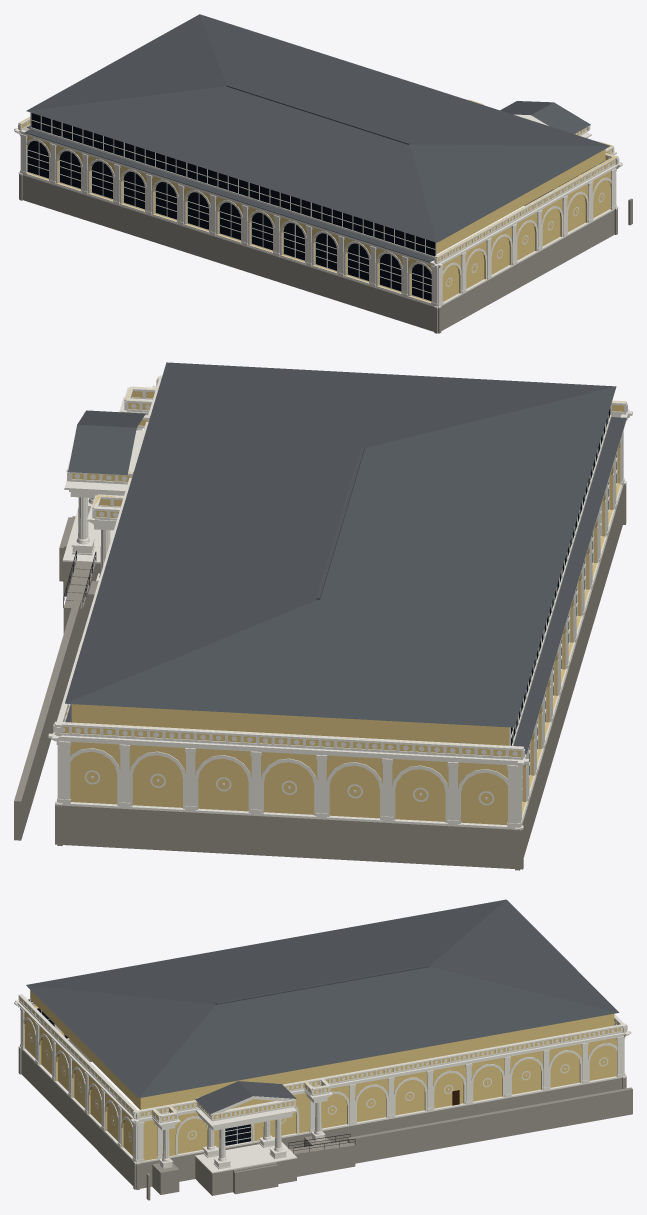
File: termy_nautiko.glb
The picture shows the model from 3 angles, top to bottom: view 1: azimuth 30°, elevation 25°; view 2: azimuth 150°, elevation 25°; view 3: azimuth 270°, elevation 25°; orthographic projection. The views are drawn at different scales.
Visible parts, largest first — view 1: termy_nautiko_roof, termy_nautiko_trim, termy_nautiko_stone, termy_nautiko_glass, termy_nautiko_wall, termy_nautiko_wall2; view 2: termy_nautiko_roof, termy_nautiko_wall, termy_nautiko_stone, termy_nautiko_trim, termy_nautiko_wall2, termy_nautiko_glass, termy_nautiko_trim_s; view 3: termy_nautiko_roof, termy_nautiko_wall, termy_nautiko_stone, termy_nautiko_trim, termy_nautiko_wall2, termy_nautiko_trim_s, termy_nautiko_glass.
Boxes of the visible parts, <box> form: termy_nautiko_roof: <box>24,14,610,262</box>; termy_nautiko_trim: <box>14,99,622,308</box>; termy_nautiko_stone: <box>19,175,632,333</box>; termy_nautiko_glass: <box>27,113,435,301</box>; termy_nautiko_wall: <box>19,100,617,302</box>; termy_nautiko_wall2: <box>20,137,616,303</box>; termy_nautiko_roof: <box>65,362,626,754</box>; termy_nautiko_wall: <box>55,377,625,824</box>; termy_nautiko_stone: <box>14,483,626,870</box>; termy_nautiko_trim: <box>48,375,632,830</box>; termy_nautiko_wall2: <box>57,431,623,823</box>; termy_nautiko_glass: <box>511,408,616,774</box>; termy_nautiko_trim_s: <box>78,428,142,573</box>; termy_nautiko_roof: <box>26,899,619,1114</box>; termy_nautiko_wall: <box>20,990,622,1160</box>; termy_nautiko_stone: <box>18,1039,632,1200</box>; termy_nautiko_trim: <box>14,990,631,1173</box>; termy_nautiko_wall2: <box>20,1011,624,1168</box>; termy_nautiko_trim_s: <box>162,1102,321,1158</box>; termy_nautiko_glass: <box>31,1001,251,1145</box>.
Size of the model in its own units: 65.94 by 14.64 by 79.47.
